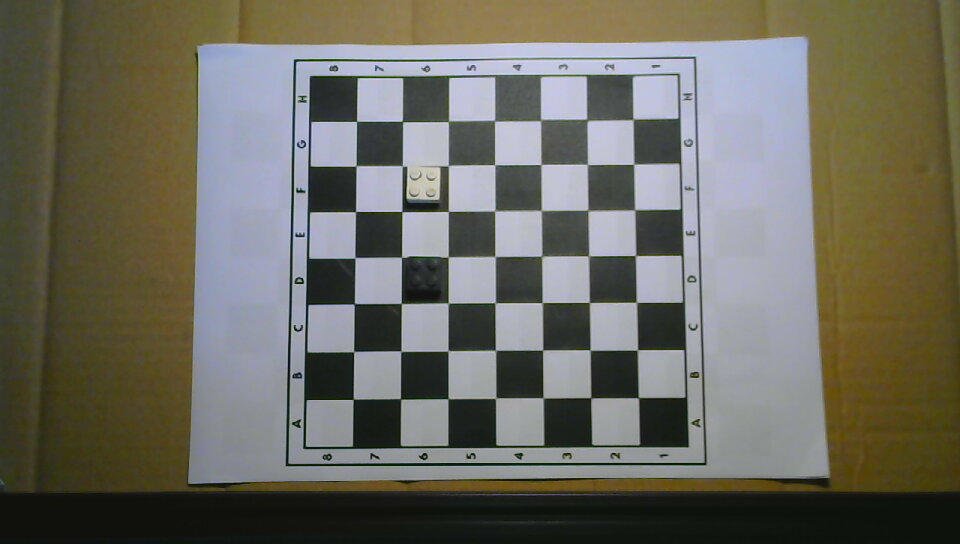bp: (405, 254, 442, 296)
wp: (405, 165, 440, 203)
